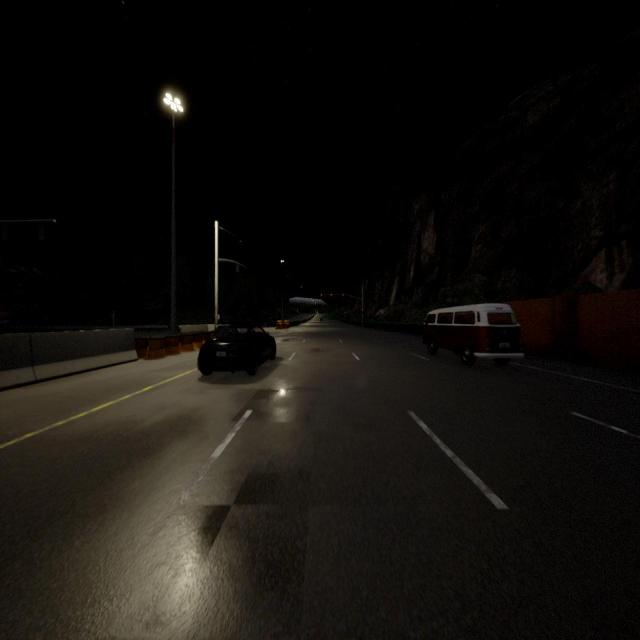Vehicle: (422, 302, 524, 372), (197, 322, 277, 378), (320, 318, 324, 322)
traffic_light: (236, 264, 239, 272), (362, 309, 364, 315), (320, 294, 322, 298), (331, 294, 332, 298), (343, 294, 344, 297)
